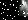person: (20, 1, 28, 17), (7, 4, 13, 12)
